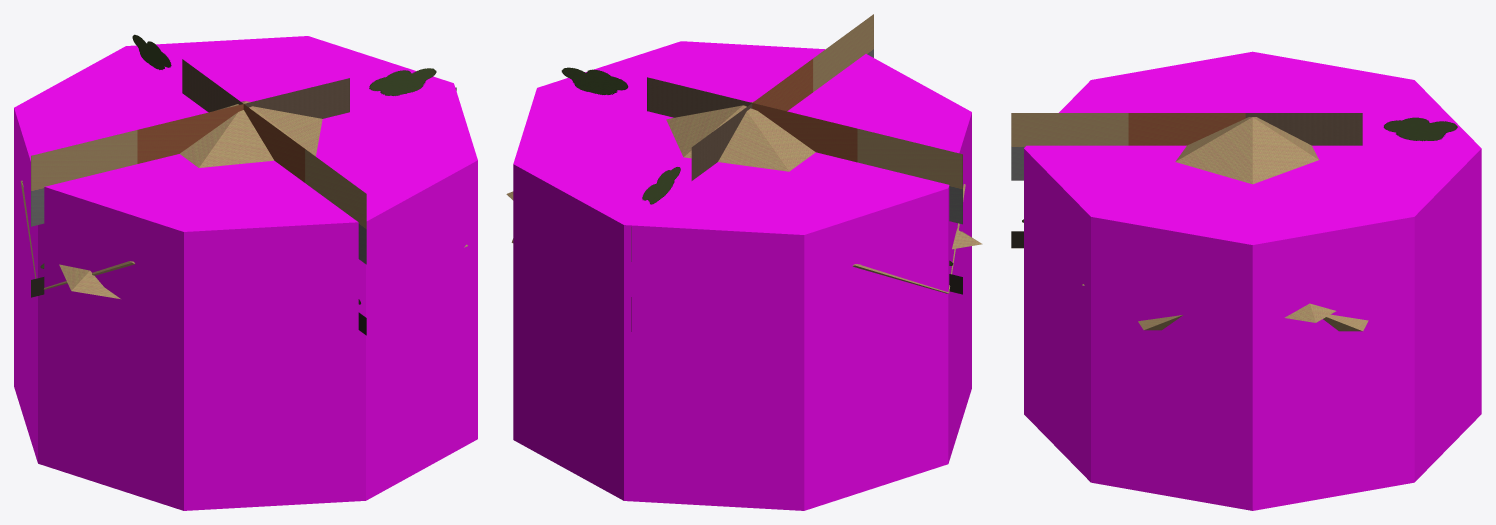
Rendered from rock_med_tan_a.dae.
The picture shows the model from 3 angles, left to right: view 1: azimuth 30°, elevation 25°; view 2: azimuth 150°, elevation 25°; view 3: azimuth 270°, elevation 25°; orthographic projection. The views are drawn at different scales.
Parts seen in each view (by area): view 1: Colmesh_rock-1, rock_med_tan_a_a50, rock_med_tan_a_a800, rock_med_tan_a_a200; view 2: Colmesh_rock-1, rock_med_tan_a_a50, rock_med_tan_a_a800; view 3: Colmesh_rock-1, rock_med_tan_a_a50, rock_med_tan_a_a800, rock_med_tan_a_a200.
Part boxes in pixels (bbox=[...]): Colmesh_rock-1: bbox=[14, 36, 477, 510]; rock_med_tan_a_a50: bbox=[31, 34, 456, 335]; rock_med_tan_a_a800: bbox=[20, 101, 322, 289]; rock_med_tan_a_a200: bbox=[21, 182, 467, 298]; Colmesh_rock-1: bbox=[513, 41, 971, 510]; rock_med_tan_a_a50: bbox=[561, 14, 962, 331]; rock_med_tan_a_a800: bbox=[511, 101, 965, 293]; Colmesh_rock-1: bbox=[1024, 51, 1481, 510]; rock_med_tan_a_a50: bbox=[1011, 113, 1457, 248]; rock_med_tan_a_a800: bbox=[1138, 117, 1368, 331]; rock_med_tan_a_a200: bbox=[1082, 284, 1336, 322].
Size of the model in its own units: 1.29 by 1.29 by 0.9067.
Materials: 2 (1 with a texture image).
